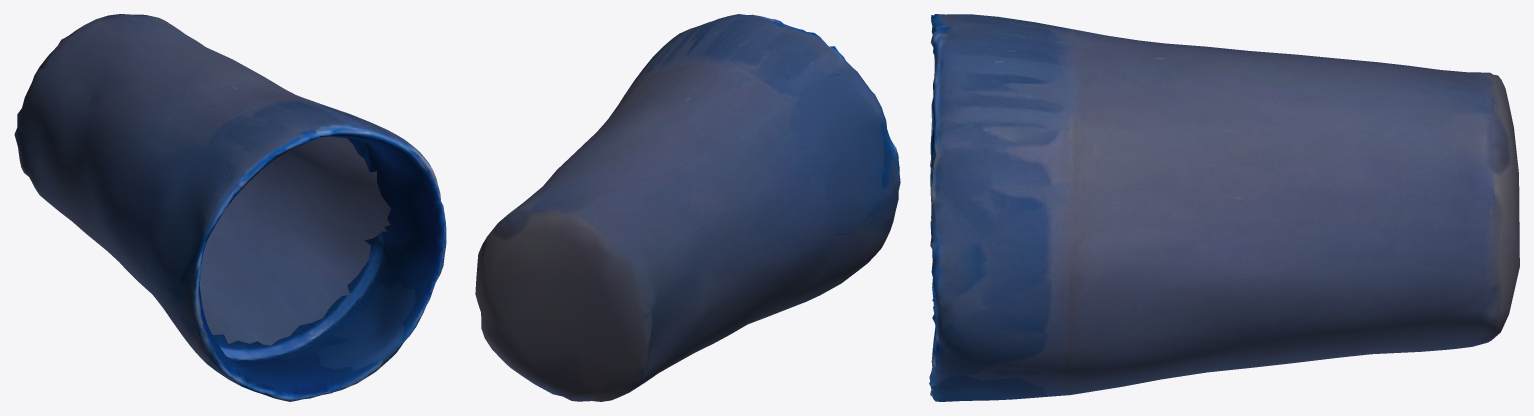
The model's file is blue_cup.obj.
The picture shows the model from 3 angles, left to right: view 1: azimuth 30°, elevation 25°; view 2: azimuth 150°, elevation 25°; view 3: azimuth 270°, elevation 25°; orthographic projection. The views are drawn at different scales.
Visible parts, largest first — view 1: mmGroup0, mmGroup5; view 2: mmGroup0, mmGroup5; view 3: mmGroup0.
Part boxes in pixels (x1,y1,x2,y2): mmGroup0: (14,14,446,401); mmGroup5: (149,160,211,273); mmGroup0: (475,14,900,401); mmGroup5: (808,94,877,220); mmGroup0: (929,14,1519,401).
Size of the model in its own units: 0.0728 by 0.0723 by 0.1104.
Materials: 2 (2 with a texture image).
